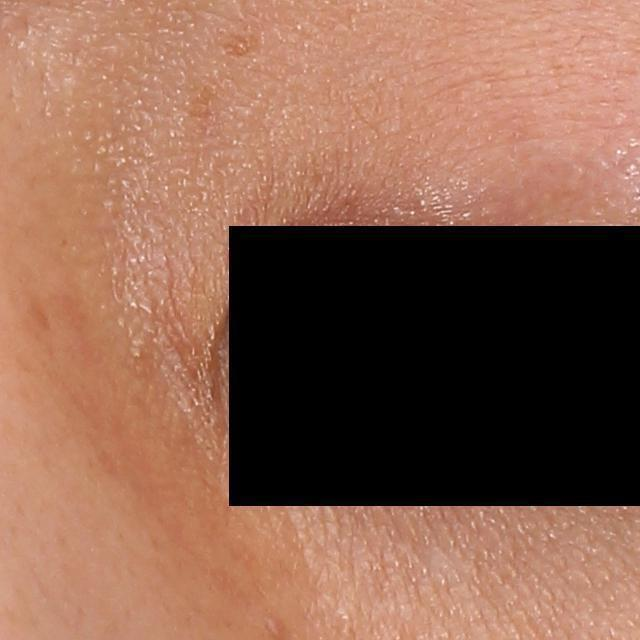melasma: (220, 29, 261, 57)
